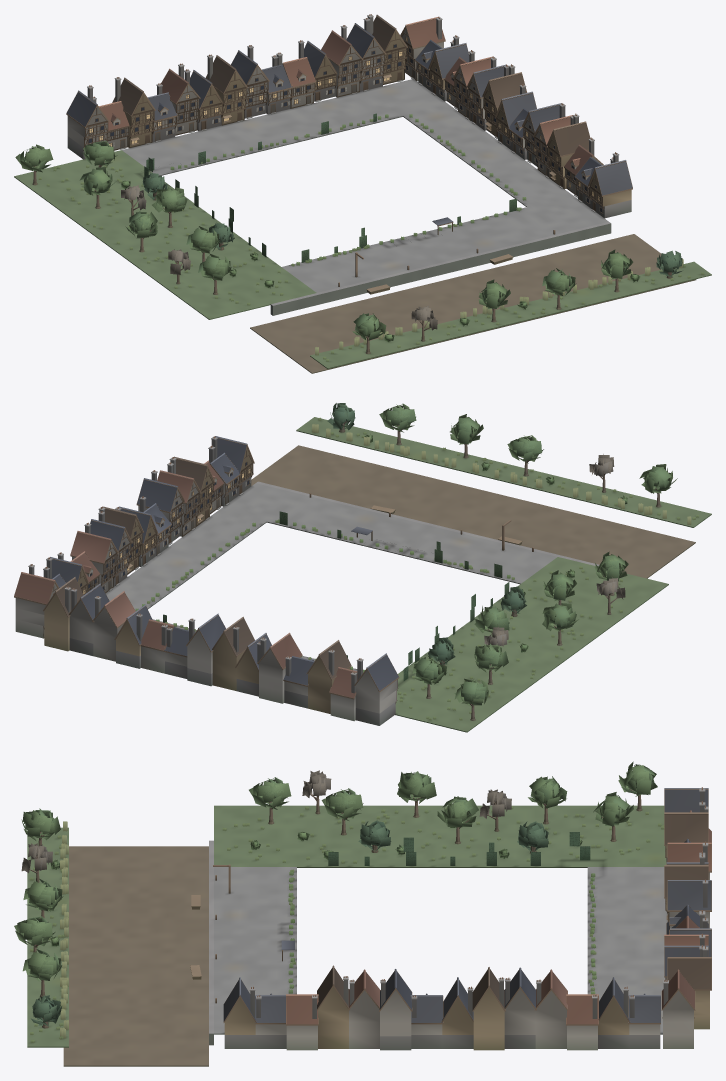
File: outside.glb
The picture shows the model from 3 angles, top to bottom: view 1: azimuth 30°, elevation 25°; view 2: azimuth 150°, elevation 25°; view 3: azimuth 270°, elevation 25°; orthographic projection. The views are drawn at different scales.
Parts seen in each view (by area): view 1: house_f.005, house_a.001, house_c.002, house_c.001, house_e.002, house_c.005, house_e.001, house_a.003, house_c.003, house_a.002, house_e.005, house_f.001 (+27 smaller); view 2: house_a.001, house_e.005, house_c.002, house_e.001, house_a.002, house_e.002, house_c.001, house_a.003, house_c.003, house_e.003, house_a.005, house_f.002 (+28 smaller); view 3: house_c.004, house_a.005, house_c.005, house_a.004, house_e.005, house_e.003, house_e.004, house_f.005, house_f.004, house_f.003, house_c.003, house_b.004 (+28 smaller).
Part boxes in pixels (x1,y1,x2,y2): house_f.005: (588,152,632,218); house_a.001: (66,85,109,159); house_c.002: (205,54,247,125); house_c.001: (112,77,155,148); house_e.002: (321,25,363,97); house_c.005: (546,113,590,189); house_e.001: (161,63,200,135); house_a.003: (346,18,386,91); house_c.003: (367,14,407,84); house_a.002: (231,45,269,118); house_e.005: (400,16,445,80); house_f.001: (184,69,223,131); house_a.001: (354,653,399,725); house_e.005: (14,564,58,638); house_c.002: (212,616,254,690); house_e.001: (257,632,302,703); house_a.002: (186,613,225,686); house_e.002: (92,591,135,661); house_c.001: (306,640,351,713); house_a.003: (69,583,109,655); house_c.003: (43,577,83,651); house_e.003: (70,522,118,593); house_a.005: (136,470,184,545); house_f.002: (114,604,152,668); house_c.004: (472,967,505,1050); house_a.005: (379,969,412,1050); house_c.005: (317,965,349,1048); house_a.004: (504,967,536,1048); house_e.005: (661,969,695,1048); house_e.003: (534,969,567,1048); house_e.004: (348,969,380,1048); house_f.005: (223,977,256,1048); house_f.004: (441,977,473,1048); house_f.003: (598,977,630,1048); house_c.003: (667,946,711,1029); house_b.004: (286,994,318,1050).
Bounding box in the file's own units: 114 × 19.28 × 135.
